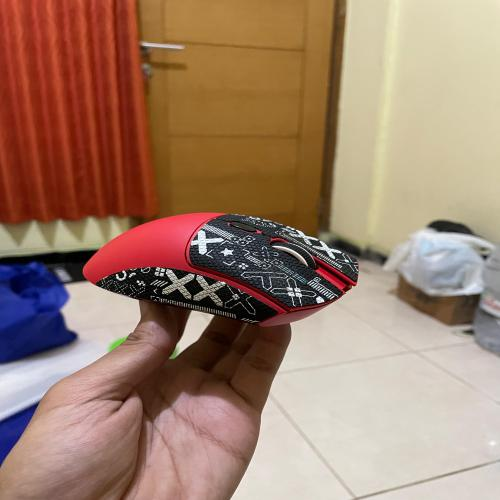Mouse: (63, 201, 387, 337)
